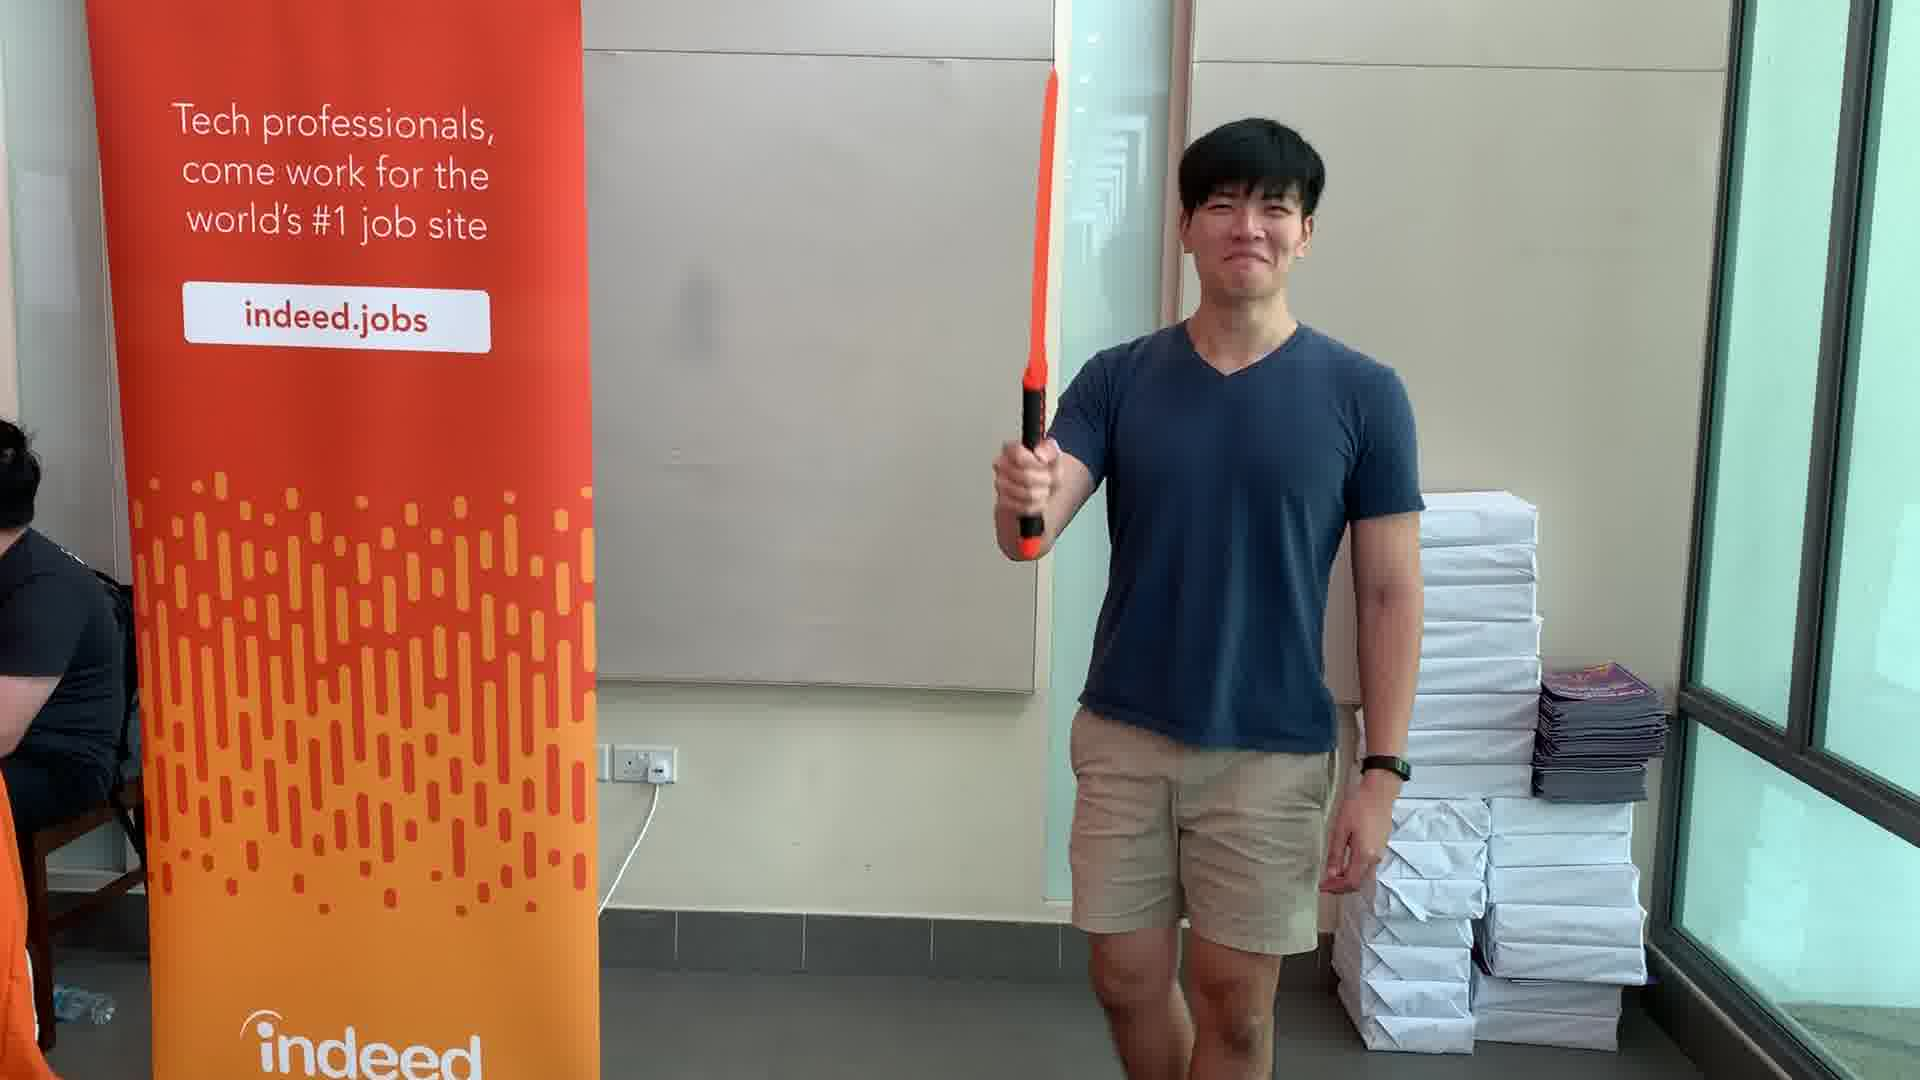knife: (1000, 57, 1073, 570)
